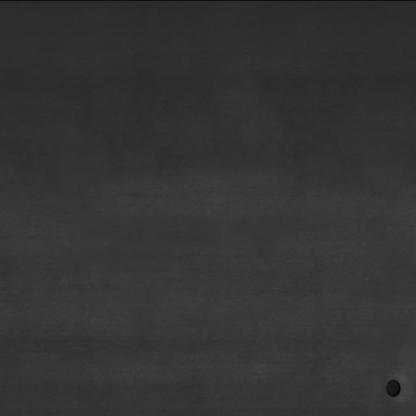punching_hole: (377, 373, 408, 401)
